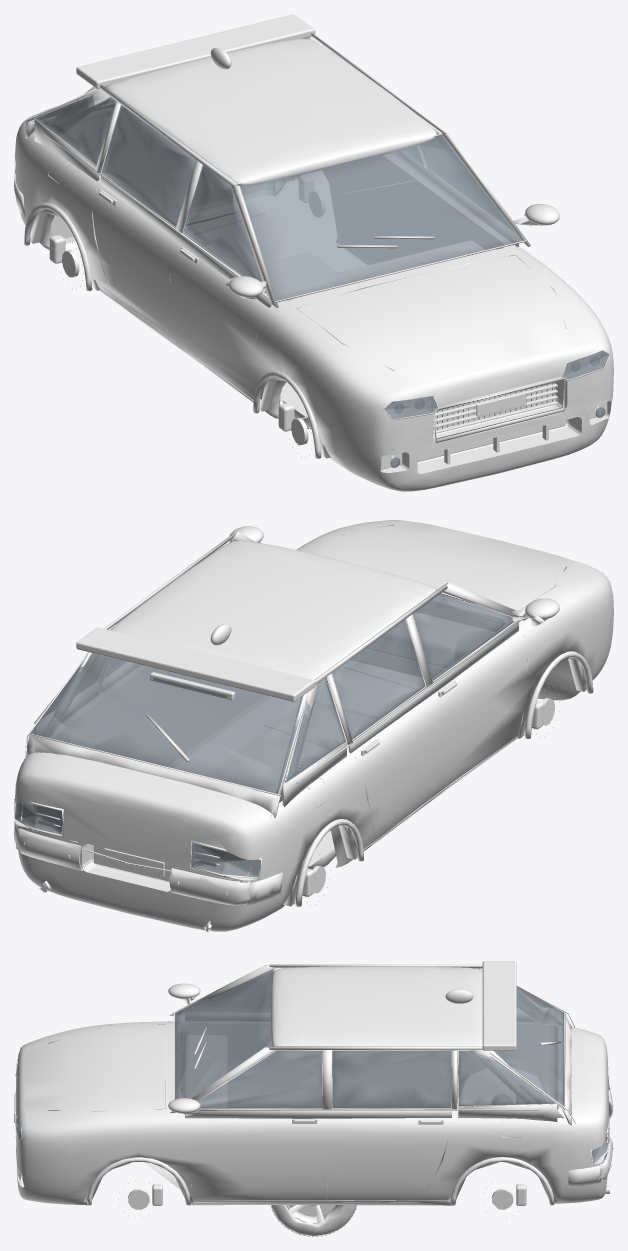
The model's file is hatch.glb.
3 renders of one model, top to bottom at view 1: azimuth 30°, elevation 25°; view 2: azimuth 150°, elevation 25°; view 3: azimuth 270°, elevation 25°, orthographic. The views are drawn at different scales.
Visible parts, largest first — view 1: body; view 2: body; view 3: body, wheel.
Boxes of the visible parts, x1,y1,x2,y2 form: body: [14, 14, 613, 491]; body: [14, 520, 613, 932]; body: [14, 961, 613, 1218]; wheel: [270, 1204, 357, 1236].
Size of the model in its own units: 1.98 by 1.79 by 4.
